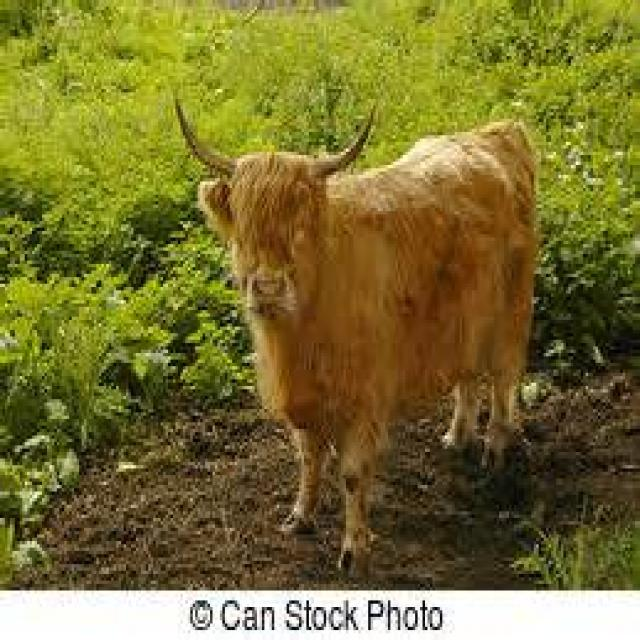cow: (193, 112, 539, 577)
